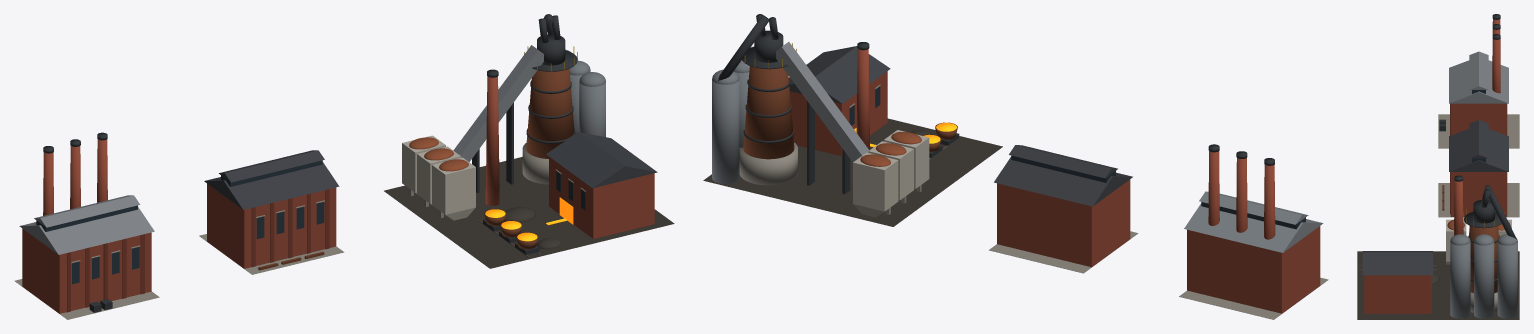
Rendered from siderurgica.glb.
3 views of the same model, side by side, from view 1: azimuth 30°, elevation 25°; view 2: azimuth 150°, elevation 25°; view 3: azimuth 270°, elevation 25° (orthographic). The views are drawn at different scales.
Parts seen in each view (by area): view 1: galpao.001, galpao.002, galpao, telhado, chao_patio.003, forno, telhado.001, telhado.003, correia, chao_patio.002, silo.002, chamine (+18 smaller); view 2: galpao.001, galpao.002, forno, telhado.001, correia, regenerador.002, galpao, chao_patio.002, telhado.003, telhado, chao_patio.003, chao_patio (+18 smaller); view 3: galpao, telhado.001, telhado, telhado.003, galpao.001, regenerador.001, regenerador.002, regenerador, galpao.002, chao_patio.001, chao_patio.004, chao_patio.005 (+16 smaller).
Boxes of the visible parts, x1,y1,x2,y2 form: galpao.001: [207, 183, 336, 268]; galpao.002: [22, 228, 151, 313]; galpao: [549, 157, 654, 238]; telhado: [546, 132, 657, 188]; chao_patio.003: [437, 207, 581, 268]; forno: [526, 69, 574, 158]; telhado.001: [204, 162, 339, 209]; telhado.003: [19, 207, 154, 254]; correia: [453, 45, 543, 161]; chao_patio.002: [384, 171, 528, 229]; silo.002: [432, 157, 475, 214]; chamine: [485, 76, 499, 205]; galpao.001: [997, 179, 1130, 267]; galpao.002: [1187, 226, 1320, 313]; forno: [743, 66, 794, 159]; telhado.001: [994, 156, 1132, 206]; correia: [776, 42, 869, 161]; regenerador.002: [712, 79, 739, 183]; galpao: [790, 71, 887, 156]; chao_patio.002: [798, 164, 947, 226]; telhado.003: [1184, 203, 1323, 252]; telhado: [789, 46, 890, 103]; chao_patio.003: [899, 123, 1002, 186]; chao_patio: [703, 150, 852, 203]; galpao: [1364, 275, 1431, 313]; telhado.001: [1449, 129, 1508, 171]; telhado: [1362, 251, 1433, 275]; telhado.003: [1449, 60, 1508, 103]; galpao.001: [1450, 172, 1507, 216]; regenerador.001: [1474, 241, 1494, 318]; regenerador.002: [1497, 241, 1517, 318]; regenerador: [1450, 241, 1470, 318]; galpao.002: [1450, 103, 1507, 135]; chao_patio.001: [1357, 285, 1438, 319]; chao_patio.004: [1438, 183, 1519, 217]; chao_patio.005: [1438, 114, 1519, 148].
Size of the model in its own units: 72.25 by 20.14 by 24.
